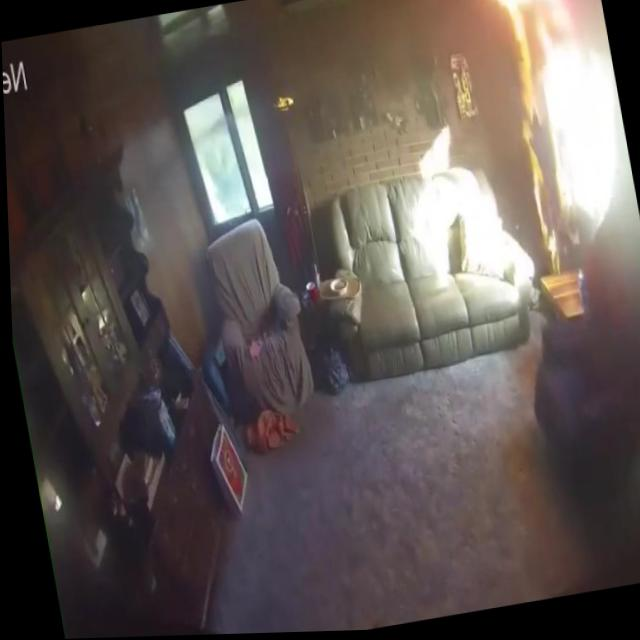fire: (504, 37, 569, 271), (456, 0, 576, 42)
